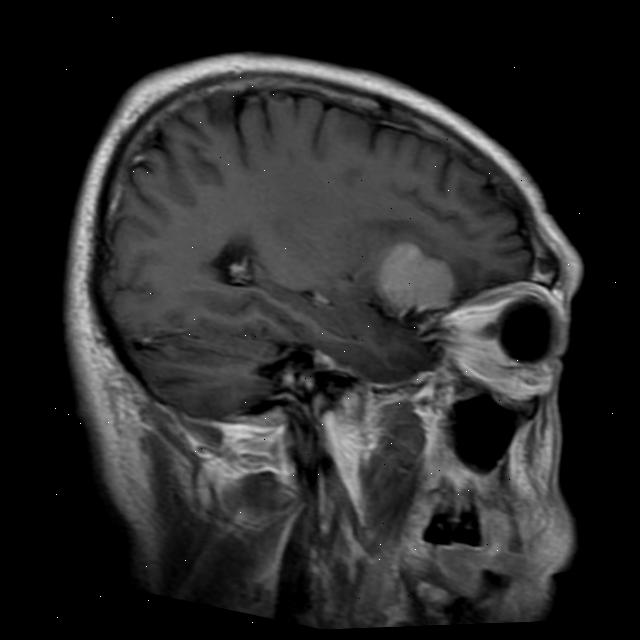Meningioma: (368, 231, 467, 323)
